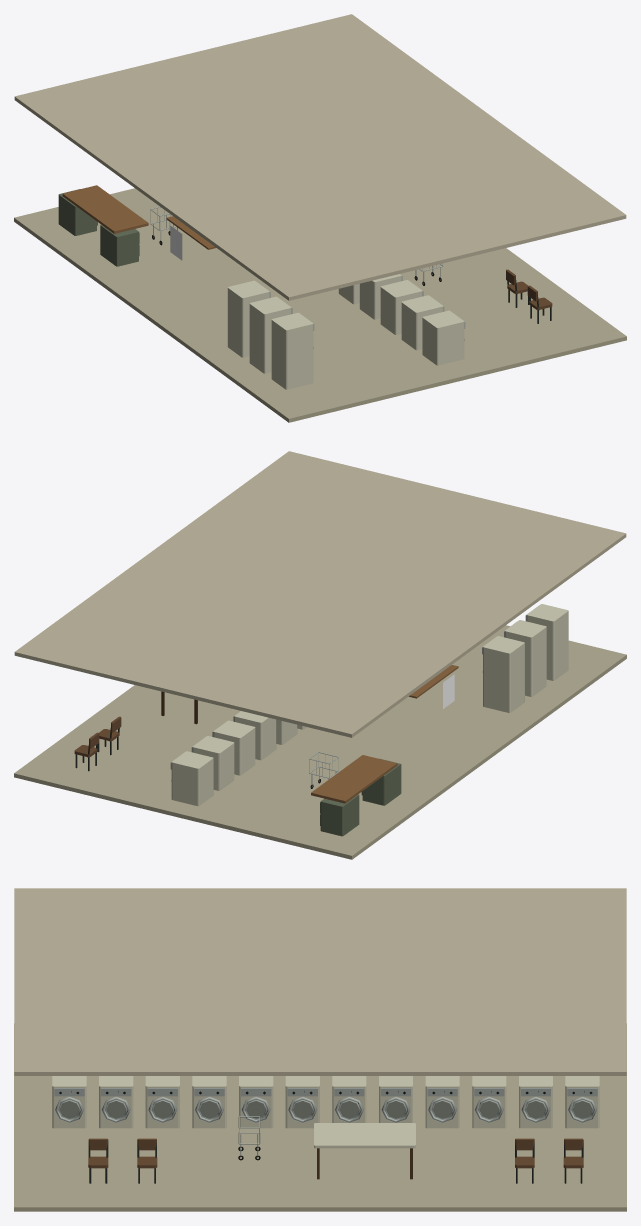
The model's file is SM_Town_Laundry_Interior_LOD2.fbx.
3 renders of one model, top to bottom at view 1: azimuth 30°, elevation 25°; view 2: azimuth 150°, elevation 25°; view 3: azimuth 270°, elevation 25°, orthographic. The views are drawn at different scales.
Parts seen in each view (by area): view 1: SM_Town_Laundry_Interior_LOD2; view 2: SM_Town_Laundry_Interior_LOD2; view 3: SM_Town_Laundry_Interior_LOD2.
Boxes of the visible parts, x1,y1,x2,y2 form: SM_Town_Laundry_Interior_LOD2: (14, 14, 626, 422); SM_Town_Laundry_Interior_LOD2: (14, 451, 626, 859); SM_Town_Laundry_Interior_LOD2: (14, 888, 626, 1211).
Bounding box in the file's own units: 9.8 × 13.8 × 3.47.
